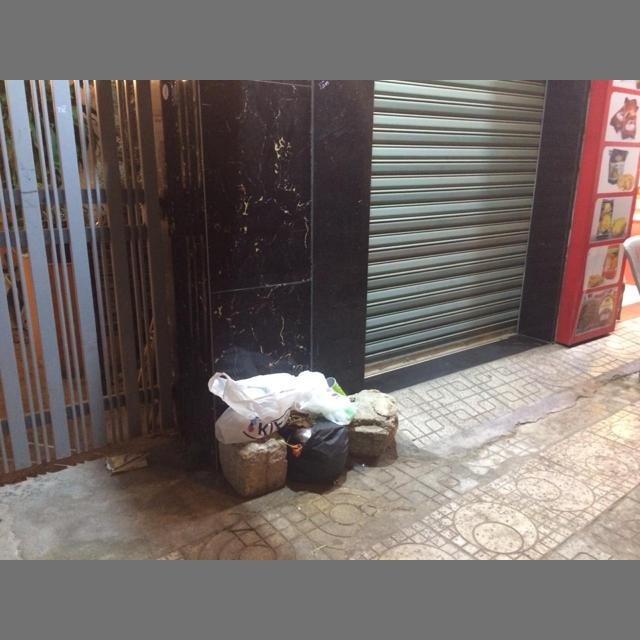litter: (208, 373, 297, 445), (286, 418, 351, 486), (292, 372, 355, 424), (106, 453, 150, 472), (326, 376, 345, 394), (292, 429, 311, 444)
